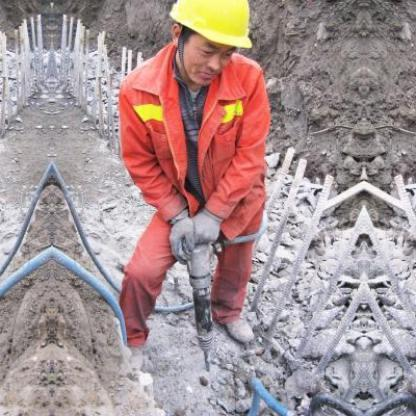helmet: (160, 0, 257, 49)
